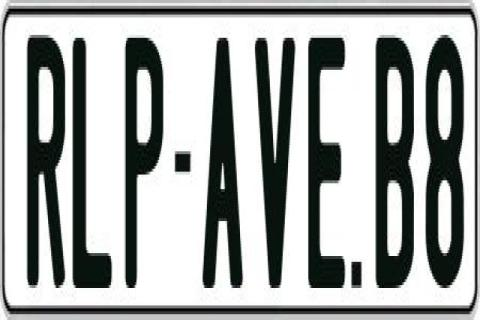0: (424, 29, 461, 288)
A: (200, 35, 244, 288)
B: (376, 32, 414, 294)
E: (306, 35, 349, 285)
L: (70, 29, 112, 285)
P: (124, 29, 165, 297)
R: (27, 29, 66, 299)
V: (253, 38, 295, 300)
